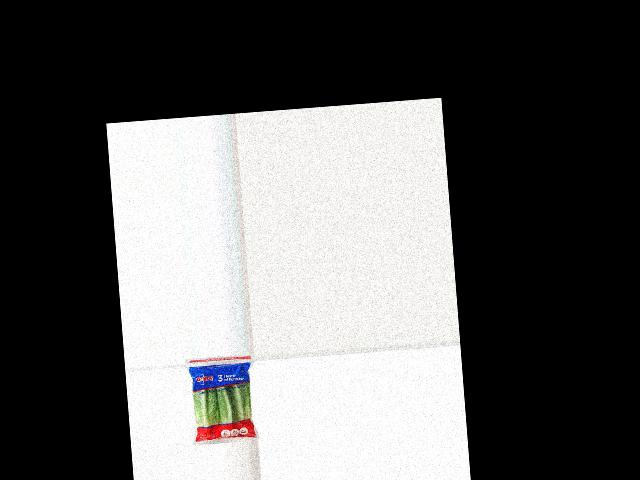lettuce: (185, 358, 257, 445)
